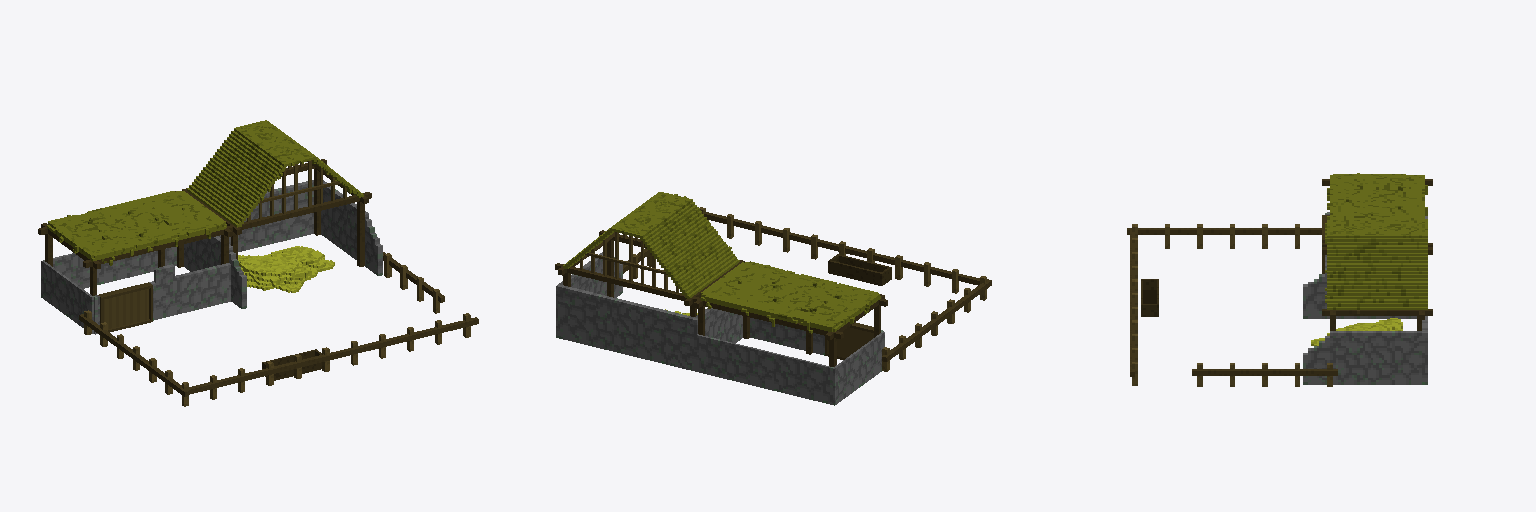
The picture shows the model from 3 angles: view 1: azimuth 30°, elevation 25°; view 2: azimuth 150°, elevation 25°; view 3: azimuth 270°, elevation 25°; orthographic projection.
Parts seen in each view (by area): view 1: object 1; view 2: object 1; view 3: object 1.
Part boxes in pixels (x1,y1,x2,y2): object 1: (38, 120, 478, 406); object 1: (555, 192, 991, 405); object 1: (1127, 173, 1432, 386).
Size of the model in its own units: 12.6 by 5 by 11.3.
1 materials, 1 textured.